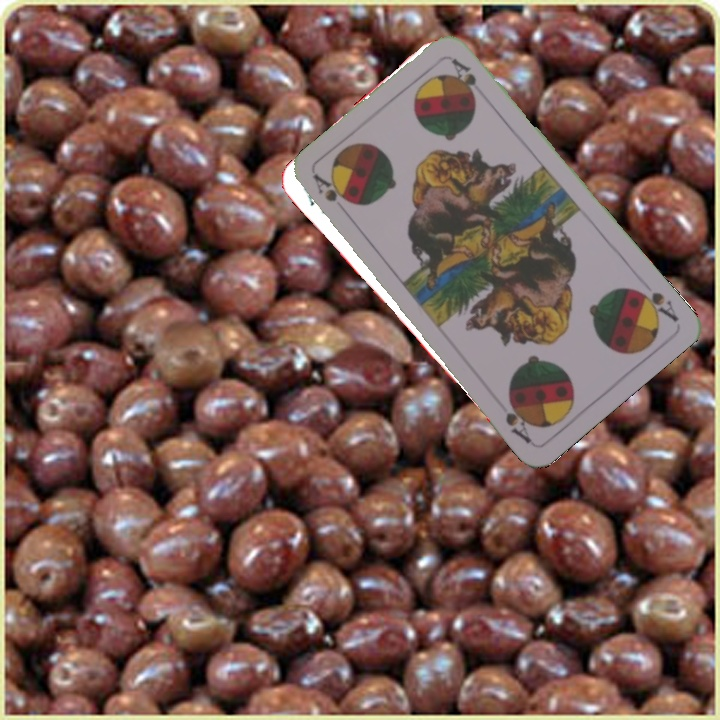SA: (628, 284, 681, 324), (309, 170, 340, 205)
